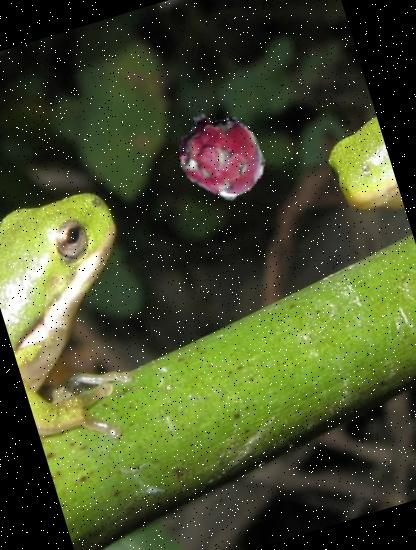Pitahaya: (167, 100, 278, 212)
